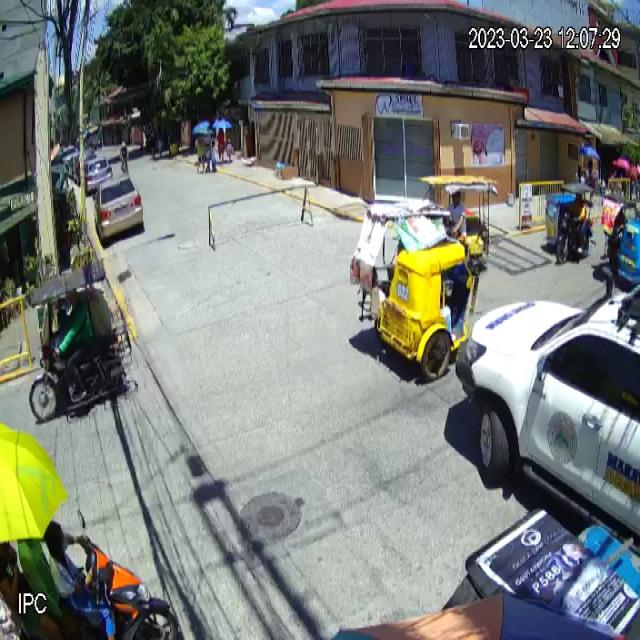Car: (454, 286, 640, 550), (94, 170, 144, 243)
Tricycle: (354, 196, 486, 384), (28, 257, 139, 421)
